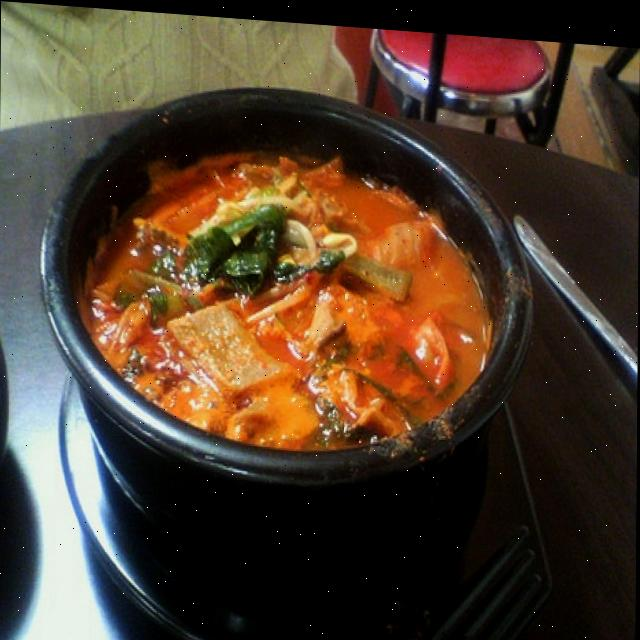汤锅炖物: (34, 57, 537, 503)
